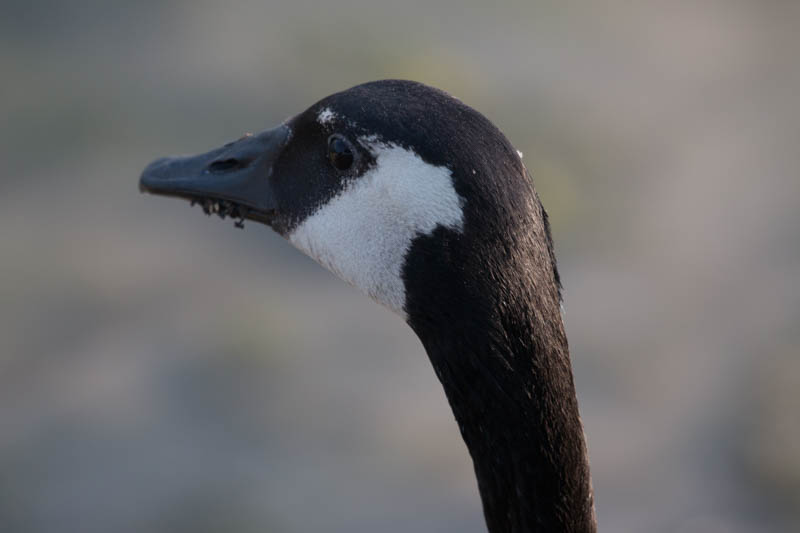goose-head: (138, 78, 567, 339)
